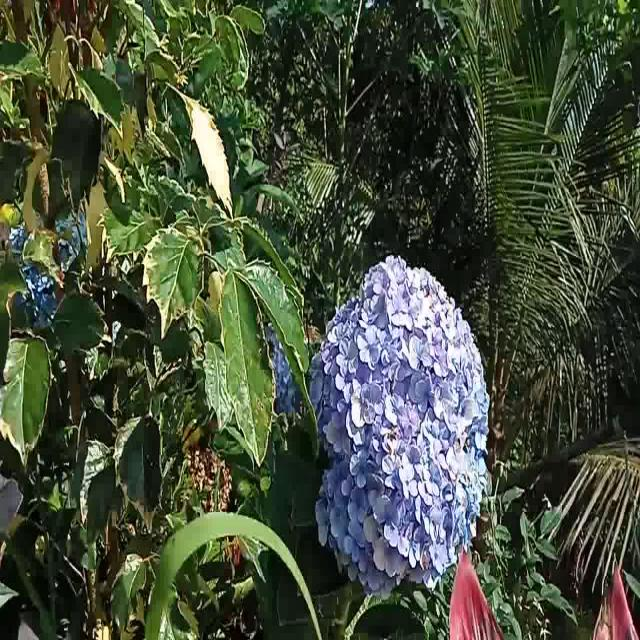Flower: (307, 257, 493, 587)
